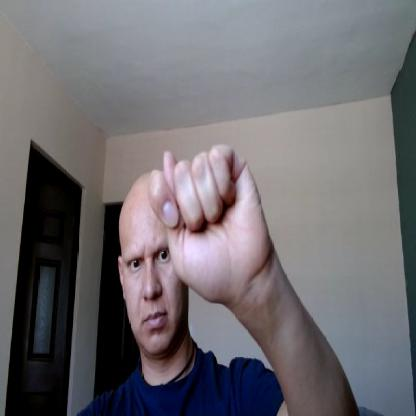T: (150, 140, 264, 303)
